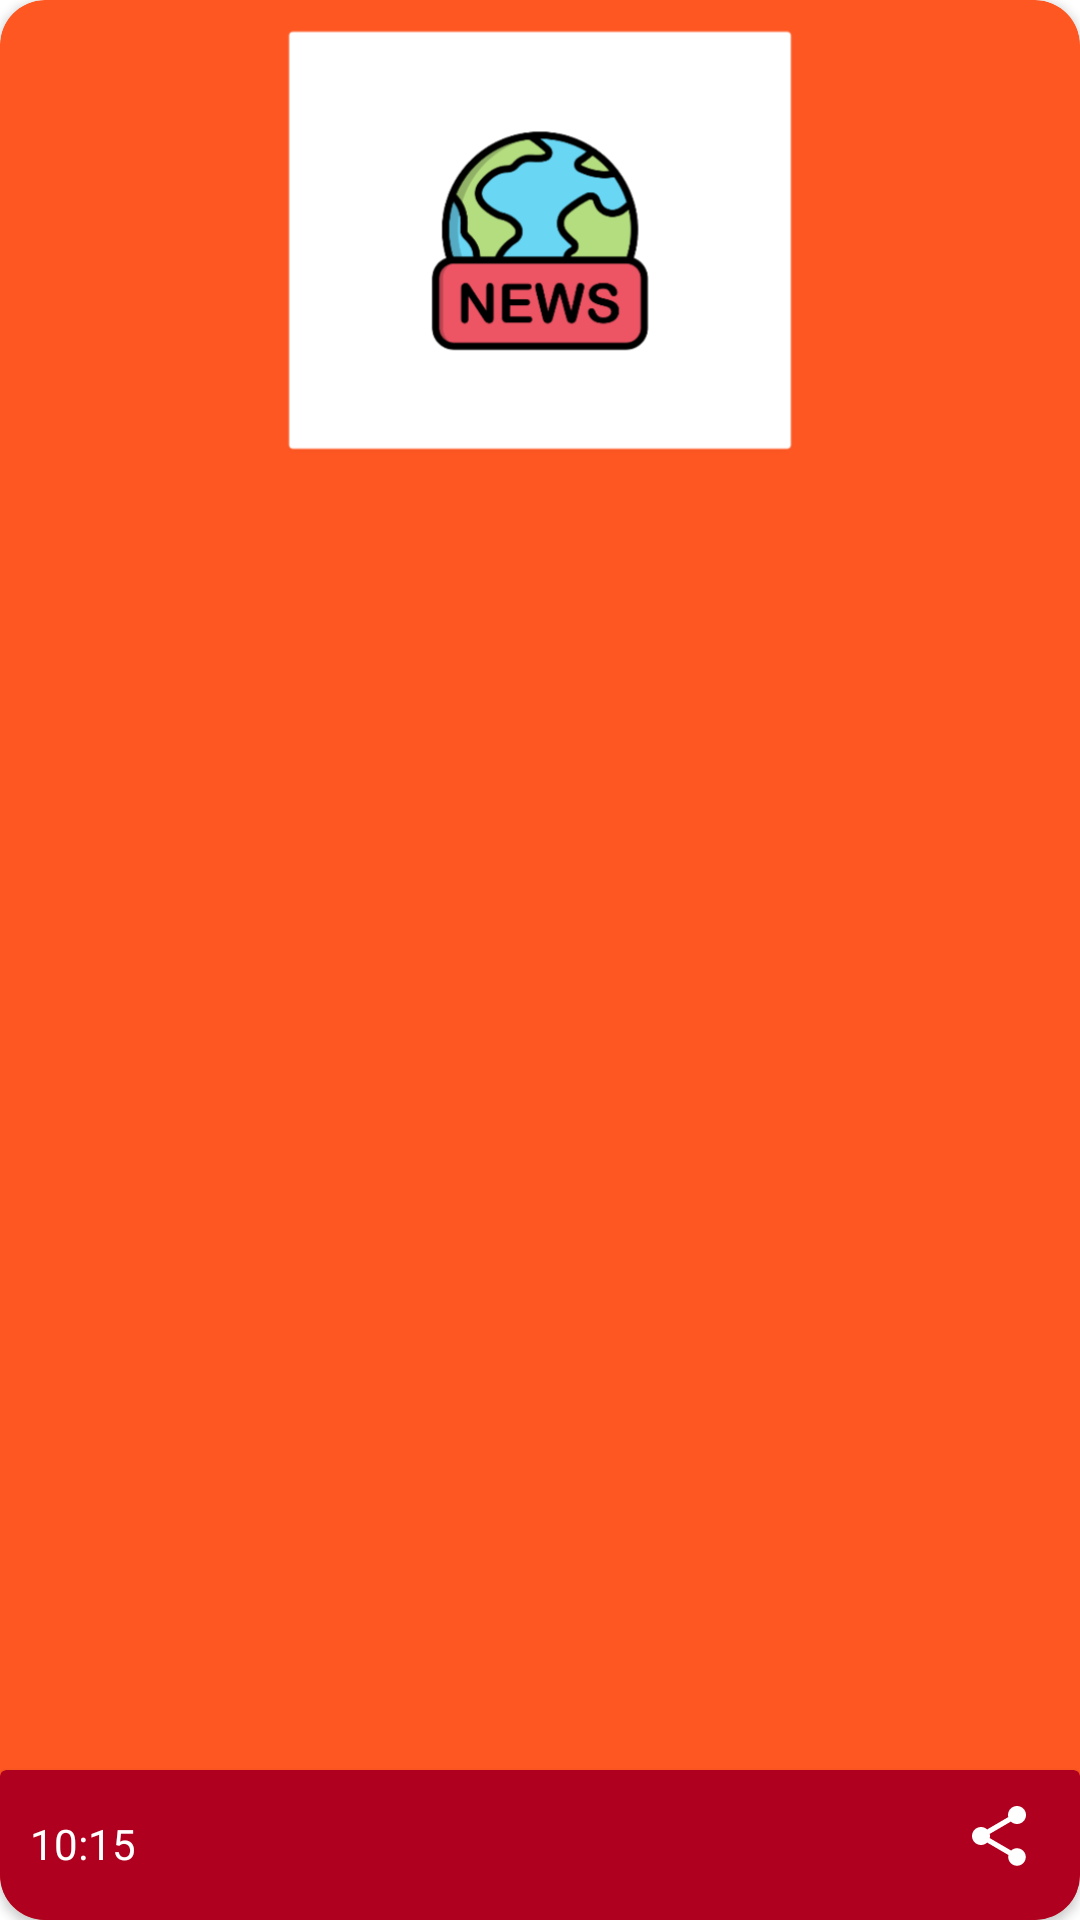

Named icons in this screenshot (1080px x 1920px) and their centers, [x,y]:
share: [999,1836]
